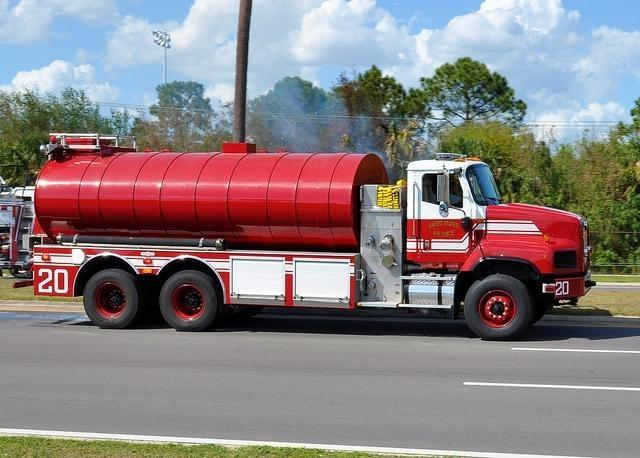truck: (31, 130, 601, 340), (0, 164, 50, 279)
